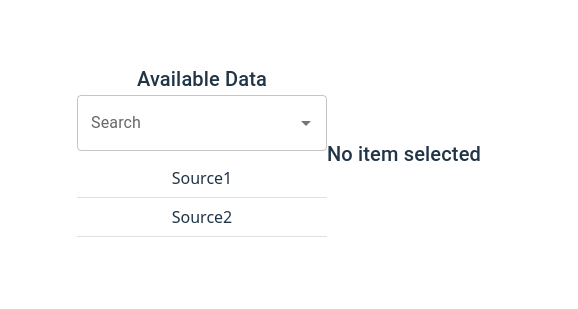
Test case: Dropdown Component › selects an item and updates the value
# expand Source1
Click the button "Source1".
click(202, 178)  # box top-left (93, 167), bottom-right (311, 189)
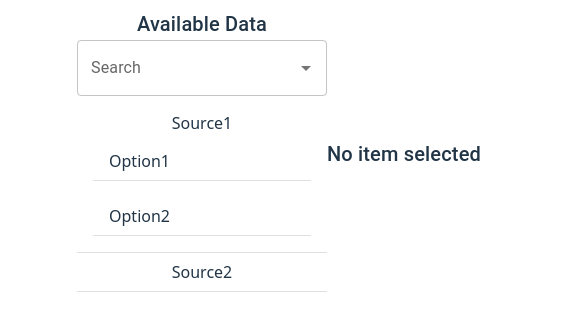
# select Option1
Click the button "Option1".
click(202, 161)  # box top-left (93, 142), bottom-right (311, 180)
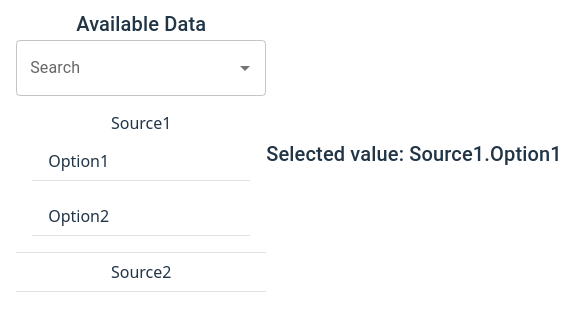
Now the heading "Selected value: Source1.Option1" is shown, box top-left (266, 138), bottom-right (562, 170)
